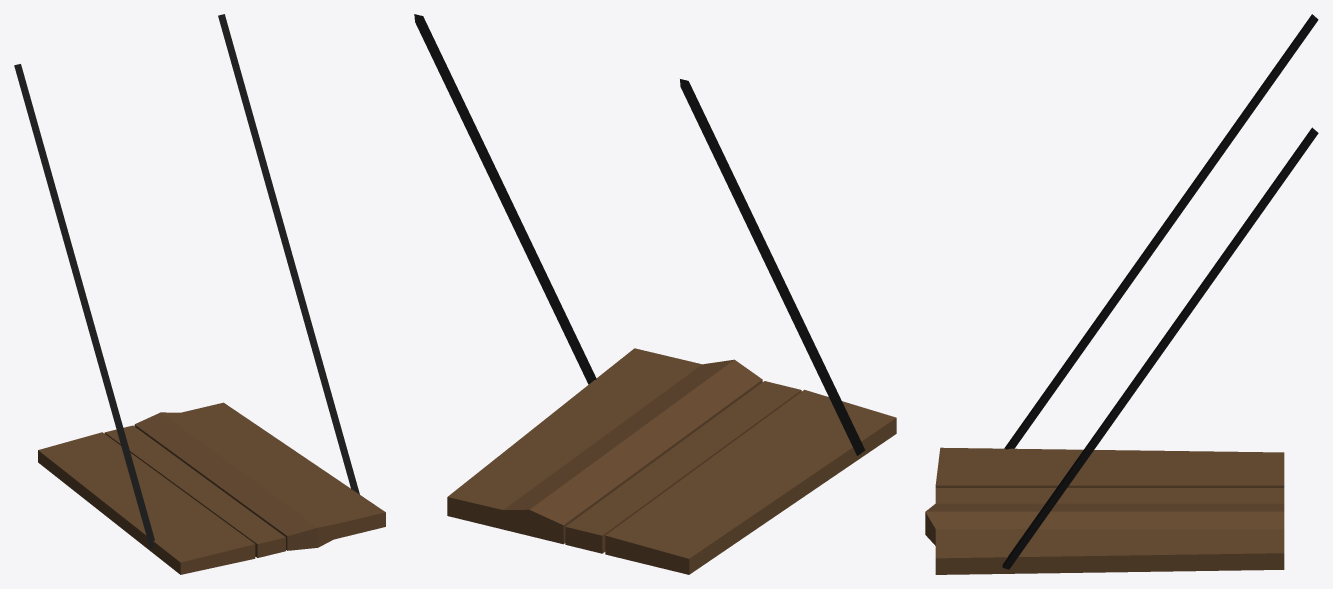
File: medieval_drawbridge-medieval.fbx
The picture shows the model from 3 angles, left to right: view 1: azimuth 30°, elevation 25°; view 2: azimuth 150°, elevation 25°; view 3: azimuth 270°, elevation 25°; orthographic projection. The views are drawn at different scales.
Parts seen in each view (by area): view 1: medieval_drawbridge_medieval; view 2: medieval_drawbridge_medieval; view 3: medieval_drawbridge_medieval.
Part boxes in pixels (bbox=[...]): medieval_drawbridge_medieval: bbox=[14, 14, 385, 574]; medieval_drawbridge_medieval: bbox=[414, 14, 896, 574]; medieval_drawbridge_medieval: bbox=[925, 14, 1318, 574].
Size of the model in its own units: 113 by 200 by 160.
